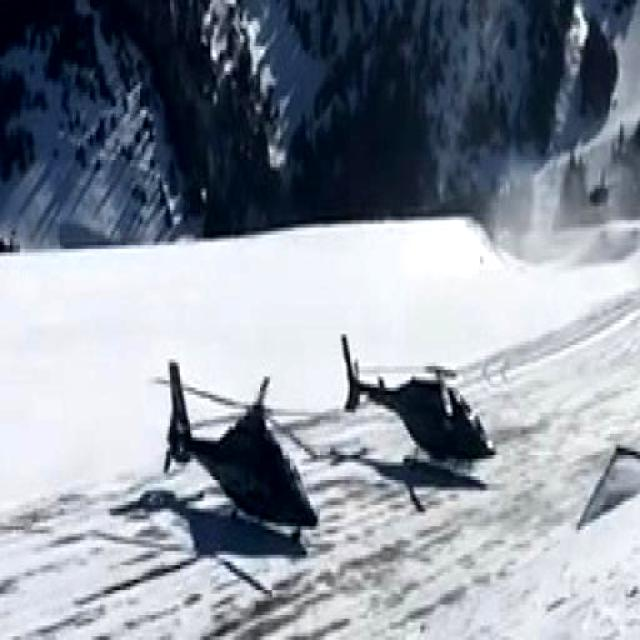drone: (158, 359, 319, 541), (342, 331, 498, 476)
